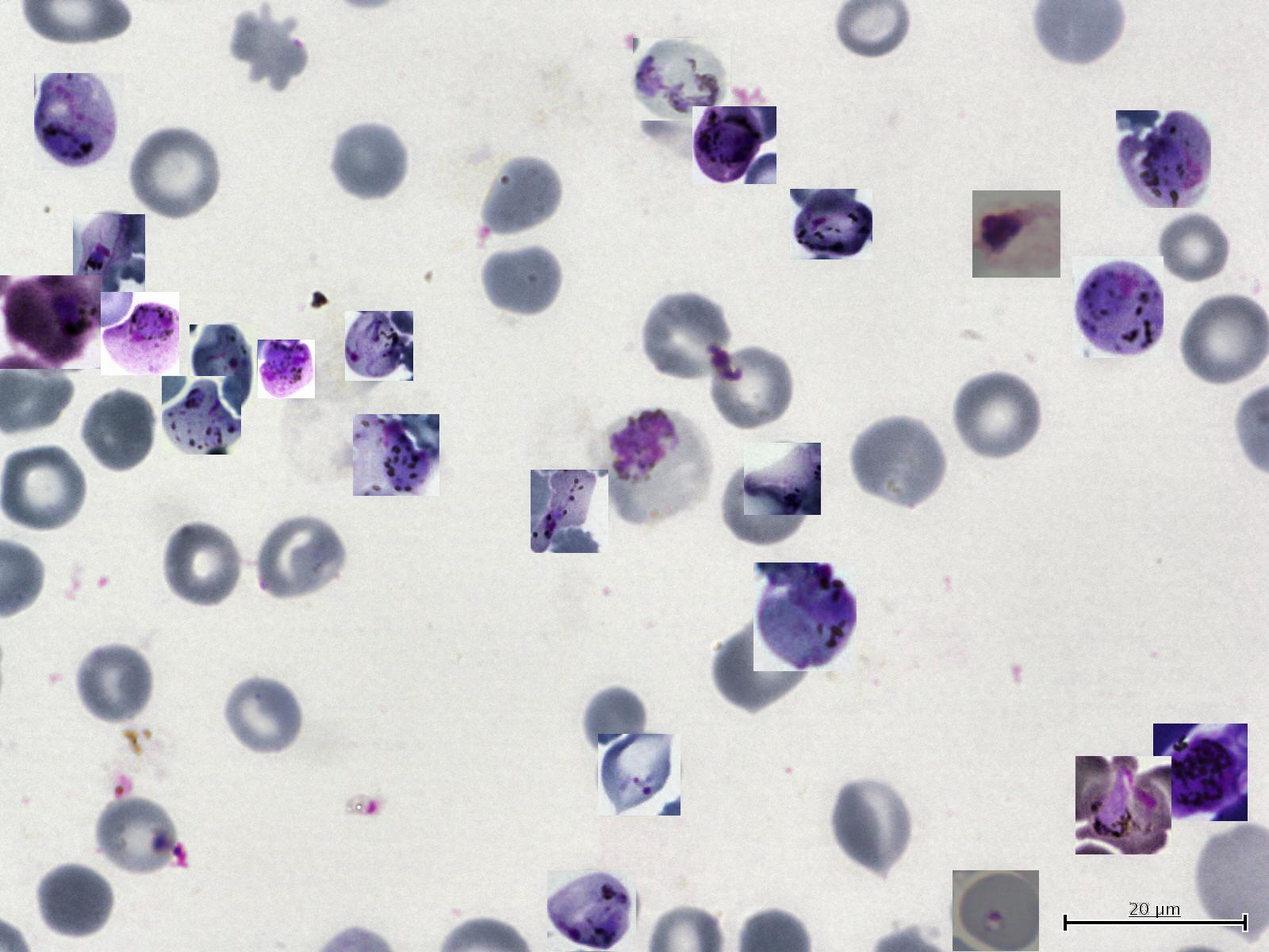Infected: (600, 405, 711, 524), (753, 562, 857, 671), (0, 275, 102, 369), (1075, 756, 1171, 854), (1072, 257, 1164, 359), (1116, 110, 1211, 208), (1153, 724, 1248, 821), (35, 73, 125, 171), (633, 38, 730, 121), (972, 190, 1060, 278), (547, 870, 636, 951), (353, 414, 439, 496), (953, 870, 1039, 951), (598, 734, 681, 816), (692, 106, 776, 184), (101, 292, 179, 375), (531, 470, 608, 553), (73, 214, 145, 301), (162, 376, 241, 455), (790, 189, 872, 259), (190, 324, 257, 409), (745, 443, 821, 515), (345, 311, 413, 381), (258, 340, 315, 398)
Uninfected: (713, 616, 815, 714), (848, 412, 947, 510), (128, 124, 223, 221), (641, 289, 736, 384), (951, 369, 1045, 463), (829, 777, 917, 876), (253, 512, 347, 604), (1178, 291, 1268, 385), (159, 517, 246, 610), (0, 440, 87, 533), (221, 6, 309, 94), (718, 464, 808, 550), (475, 153, 565, 238), (221, 674, 305, 758), (73, 640, 155, 726), (79, 387, 159, 474), (328, 120, 411, 202), (707, 347, 793, 426), (33, 860, 116, 941), (98, 792, 182, 872), (479, 242, 564, 317), (1159, 214, 1229, 282), (584, 687, 647, 754)
